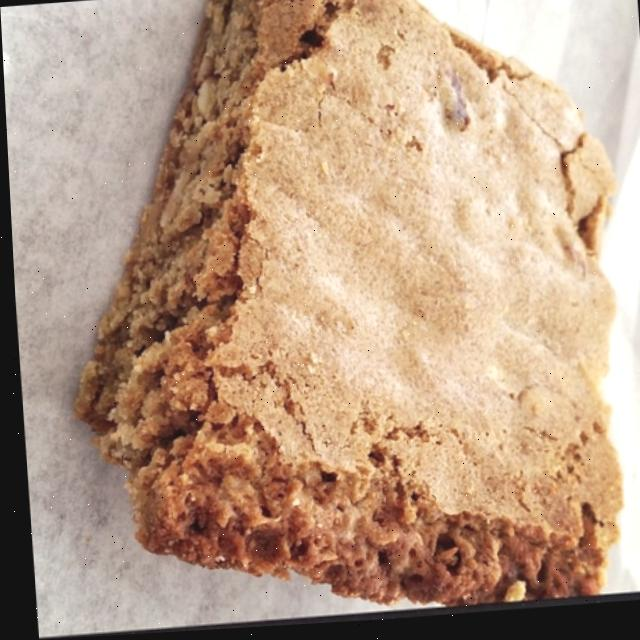蛋糕甜品: (43, 0, 640, 627)
